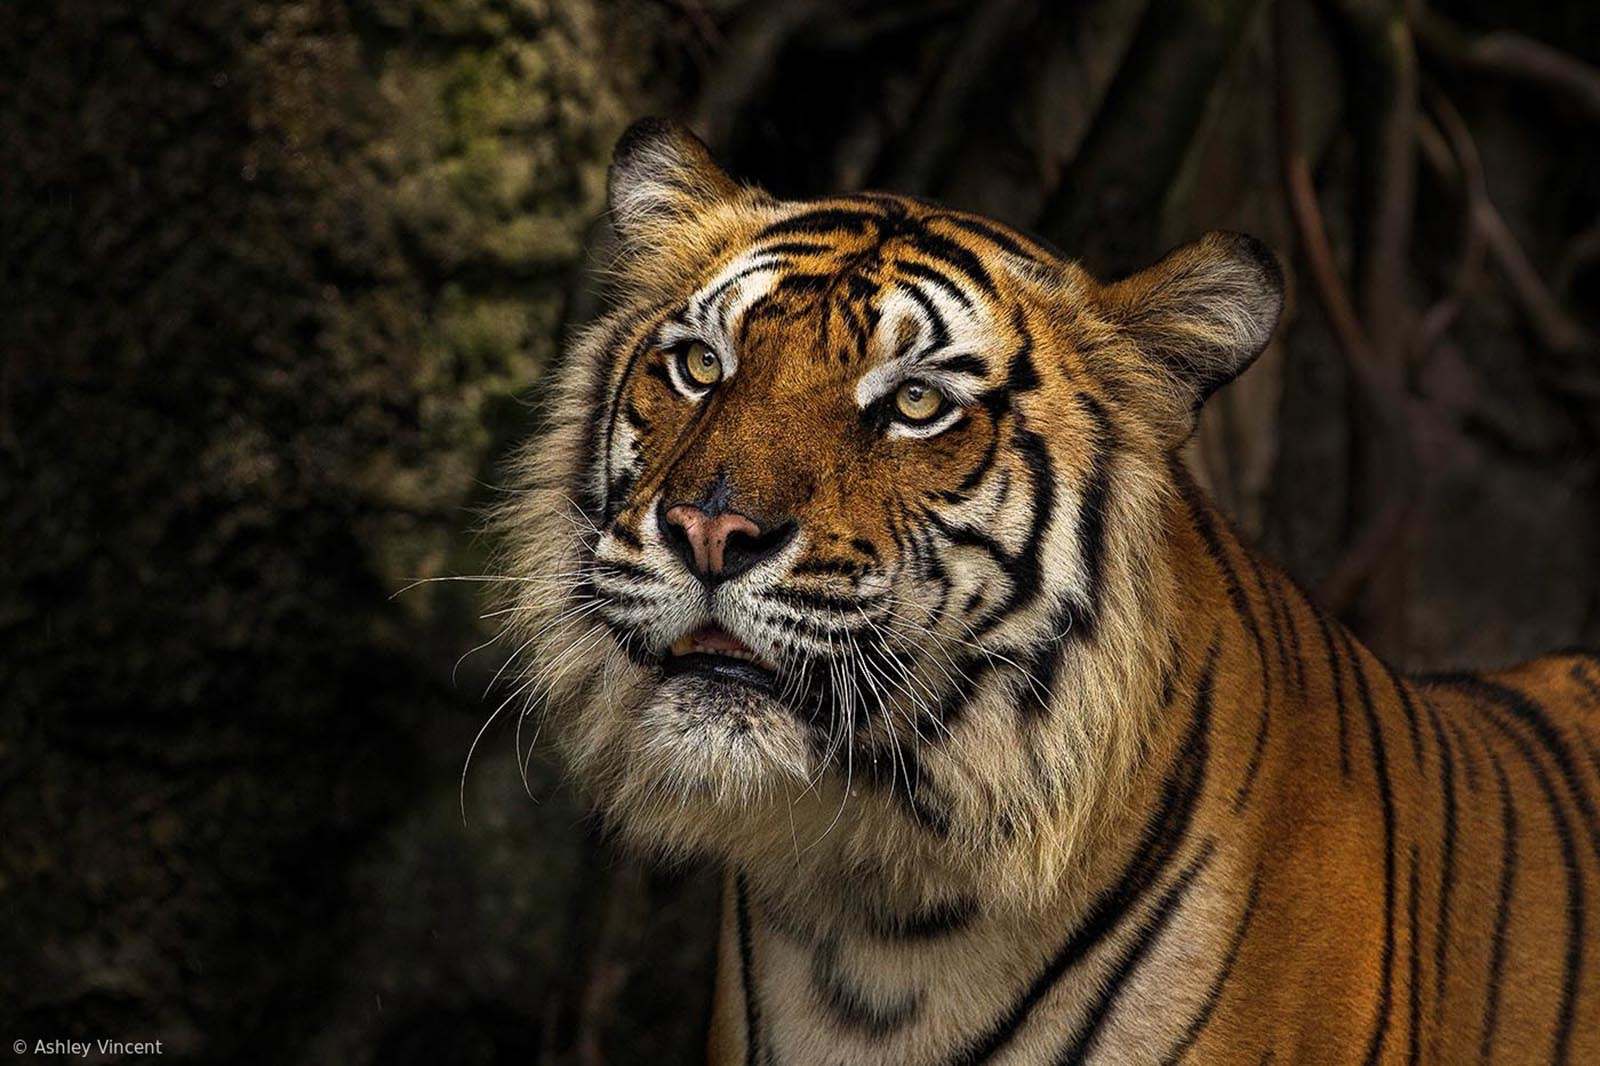tiger: (466, 80, 1548, 1053)
